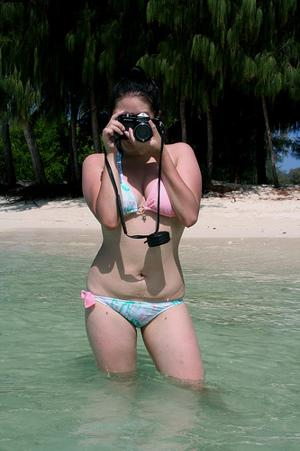person: (82, 75, 206, 388)
